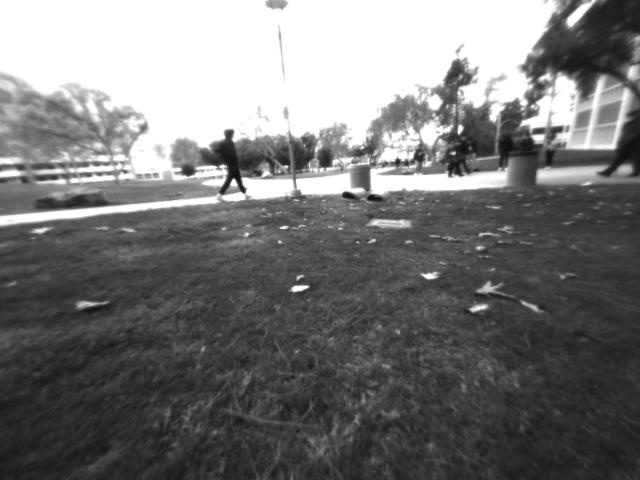trashcan: (501, 144, 547, 191), (346, 157, 377, 191)
